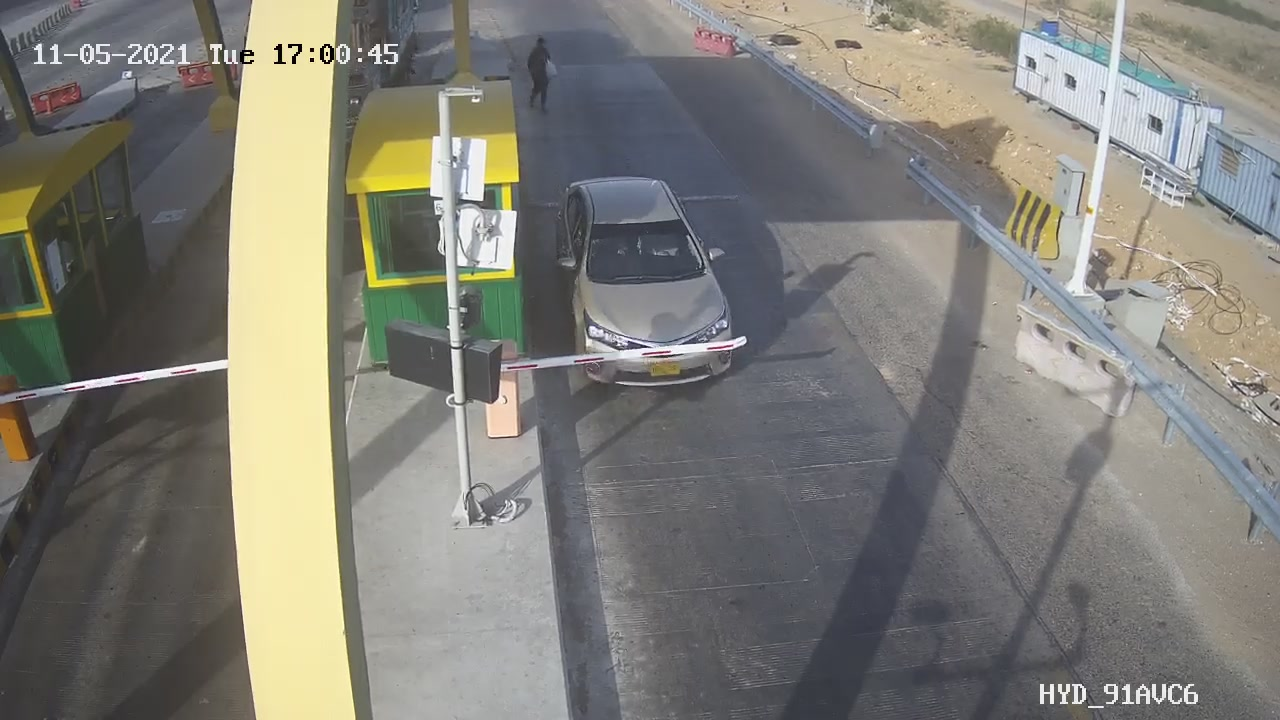F1: (537, 160, 765, 407)
